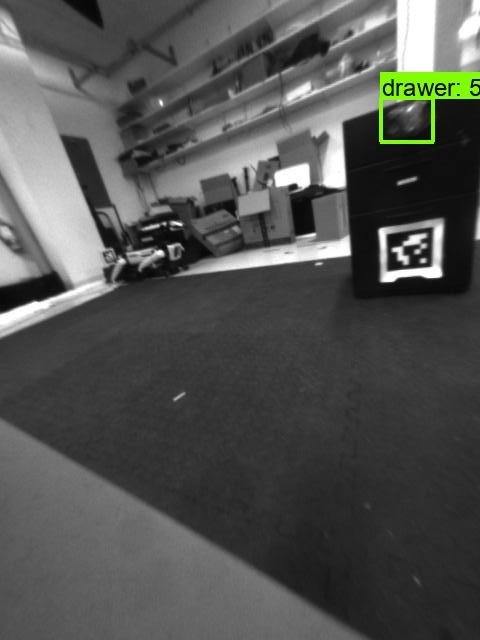drawer: (378, 99, 442, 143)
